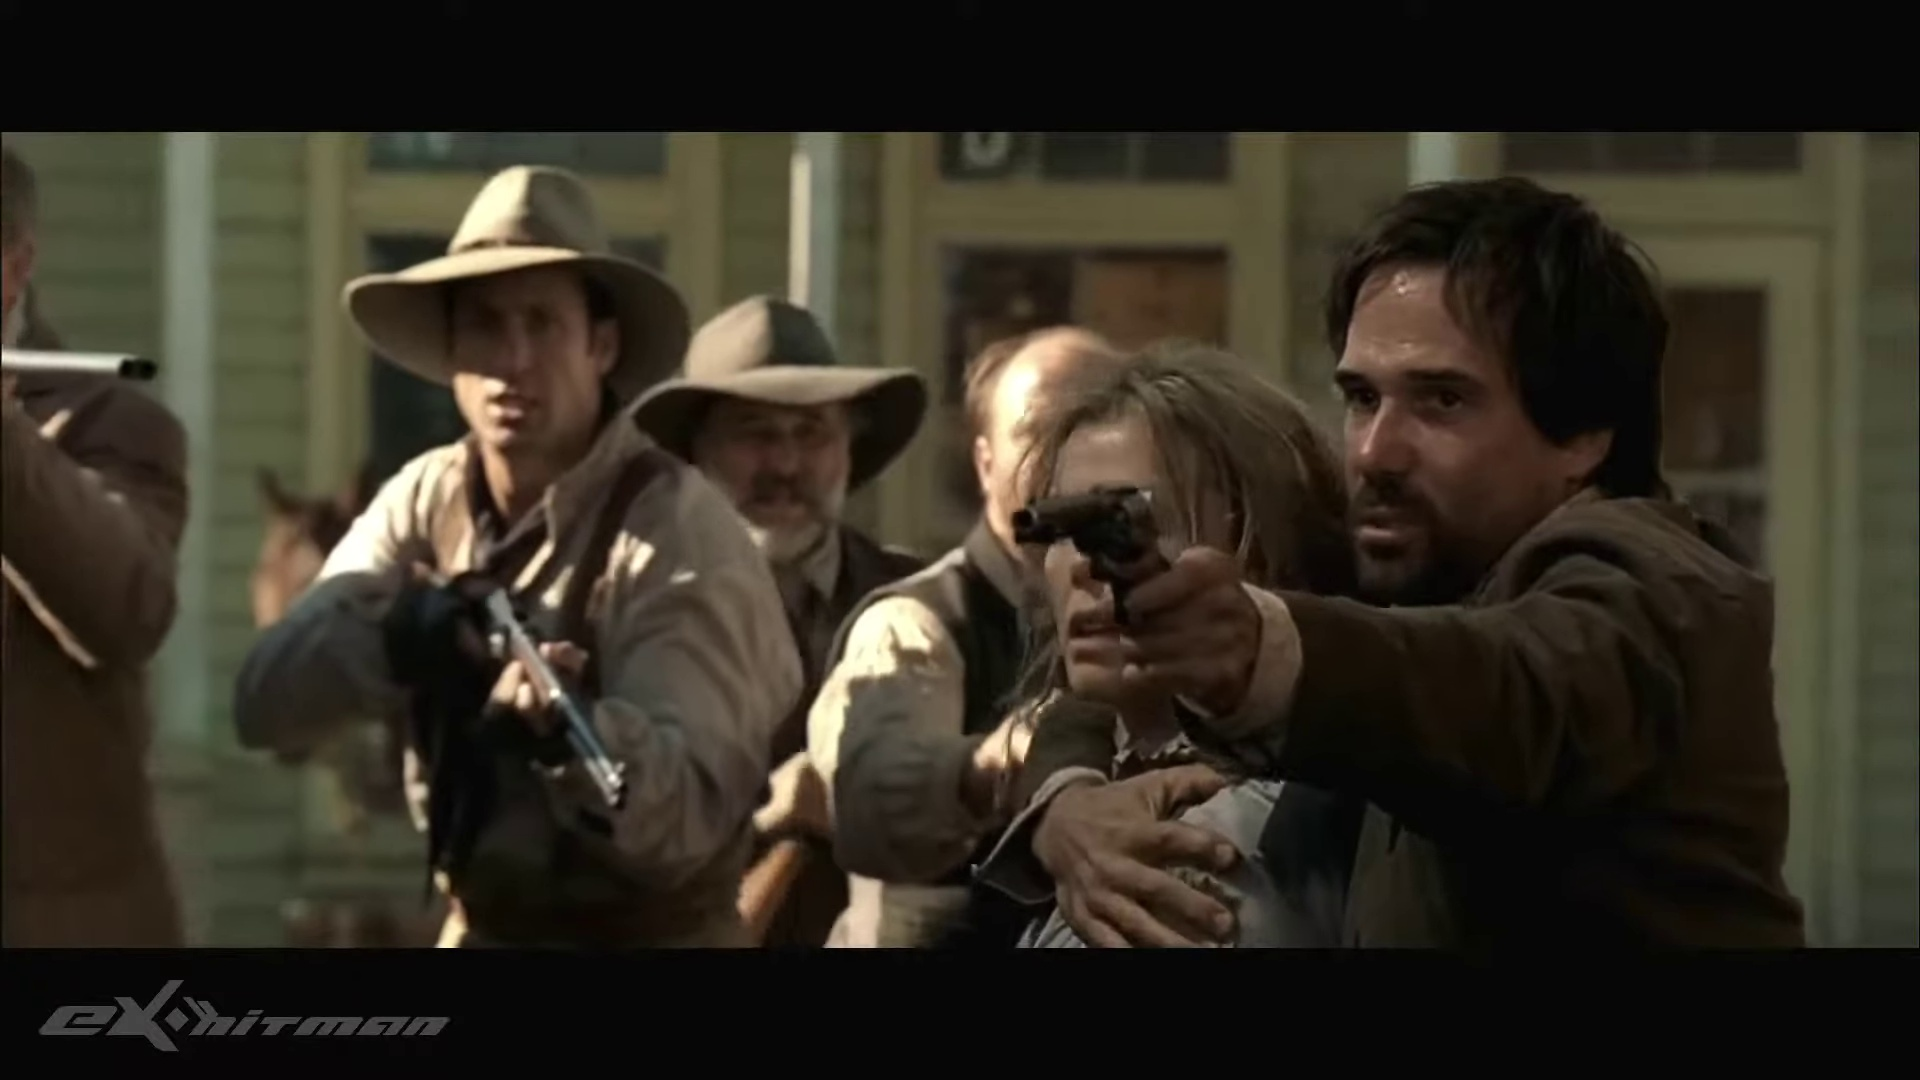gun: (425, 564, 633, 825), (998, 469, 1187, 636), (0, 330, 167, 410)
p_w_gun: (997, 173, 1812, 944), (220, 162, 800, 947), (0, 149, 195, 955)
p_wo_gun_not_carrying_normal_pose: (798, 324, 1191, 945), (980, 339, 1377, 948), (618, 289, 957, 949)
